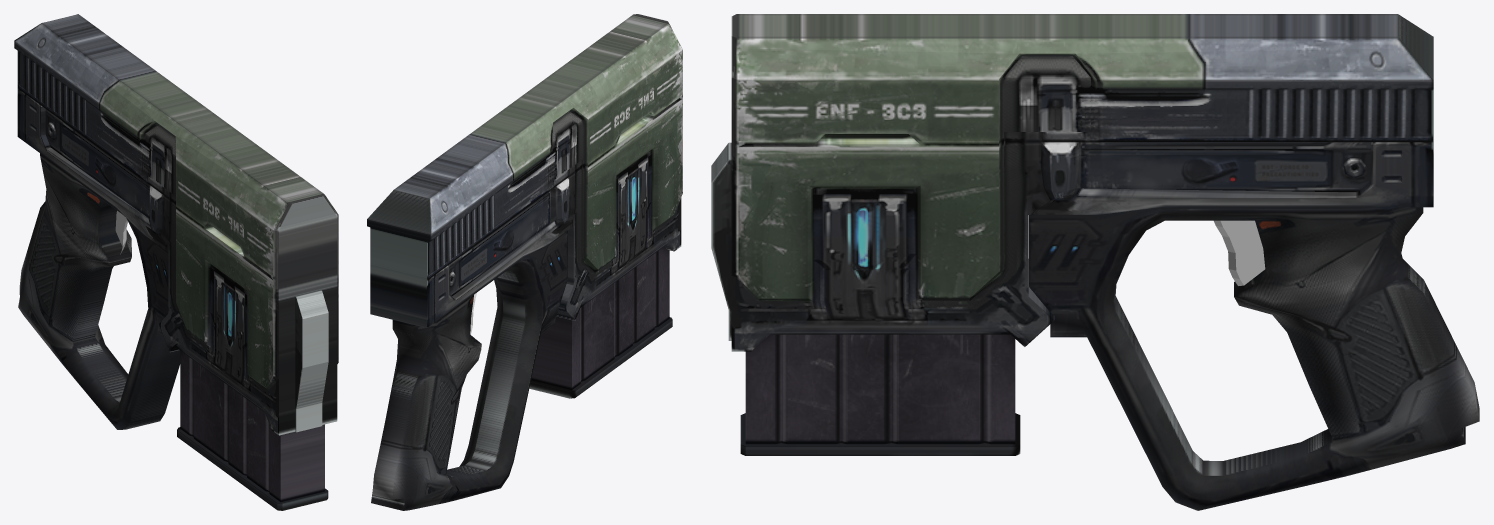
The model's file is Inforcer.fbx.
The picture shows the model from 3 angles, left to right: view 1: azimuth 30°, elevation 25°; view 2: azimuth 150°, elevation 25°; view 3: azimuth 270°, elevation 25°; orthographic projection. The views are drawn at different scales.
Parts seen in each view (by area): view 1: Plane.001, Plane.003, Plane.002; view 2: Plane.001, Plane.003, Plane.002; view 3: Plane.001, Plane.003, Plane.002, Plane.004.
Boxes of the visible parts, left/top/right/bottom form: Plane.001: left=14, top=14, right=338, bottom=435; Plane.003: left=18, top=153, right=180, bottom=429; Plane.002: left=177, top=351, right=328, bottom=510; Plane.001: left=367, top=14, right=682, bottom=327; Plane.003: left=371, top=230, right=567, bottom=510; Plane.002: left=529, top=246, right=672, bottom=398; Plane.001: left=711, top=14, right=1433, bottom=351; Plane.003: left=1029, top=207, right=1479, bottom=510; Plane.002: left=740, top=334, right=1020, bottom=455; Plane.004: left=1214, top=220, right=1265, bottom=285.
Bounding box in the file's own units: 19.6 × 102 × 149.
